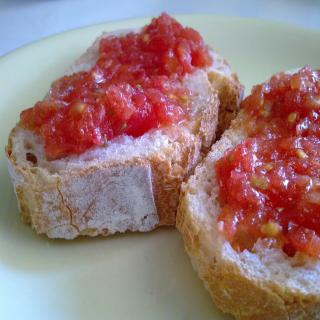Bread: (6, 28, 256, 270), (174, 66, 320, 320)
